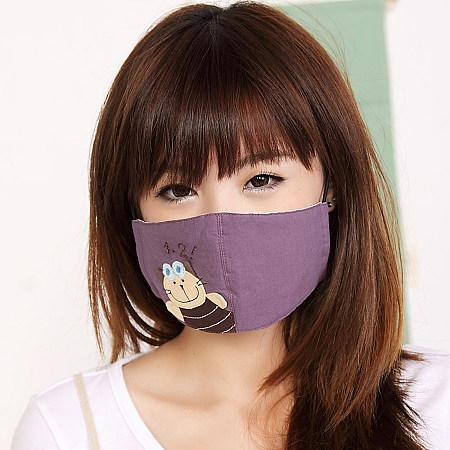OK: (133, 140, 331, 338)
